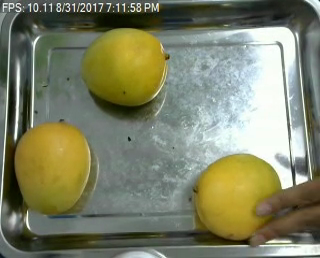Mango: (186, 151, 289, 238), (13, 119, 95, 217), (79, 27, 173, 110)
